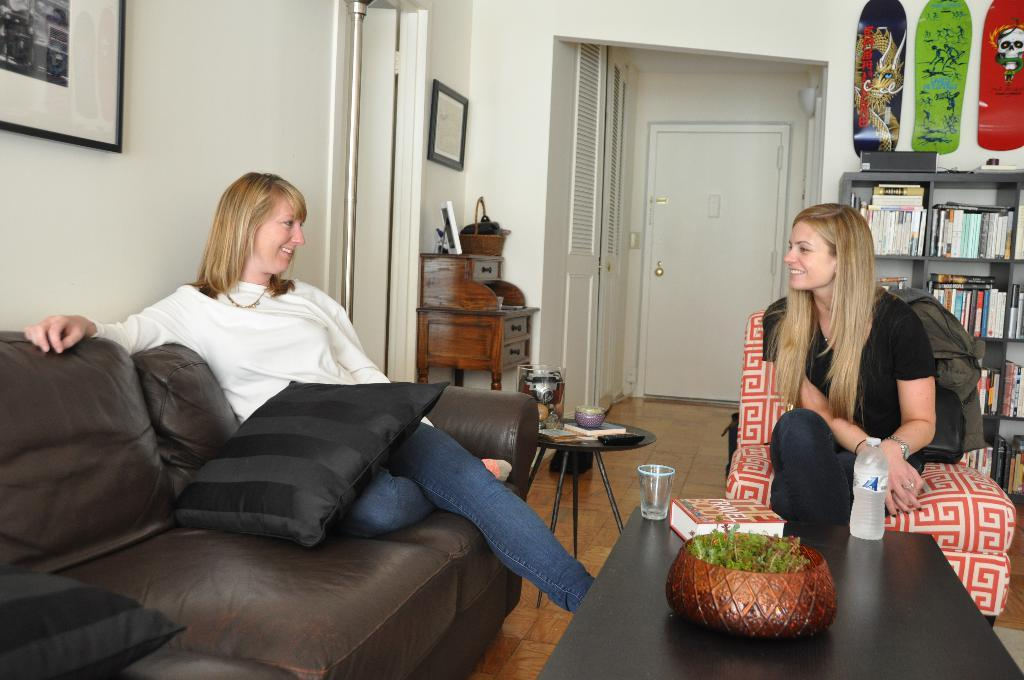Chair: (722, 287, 1023, 634)
